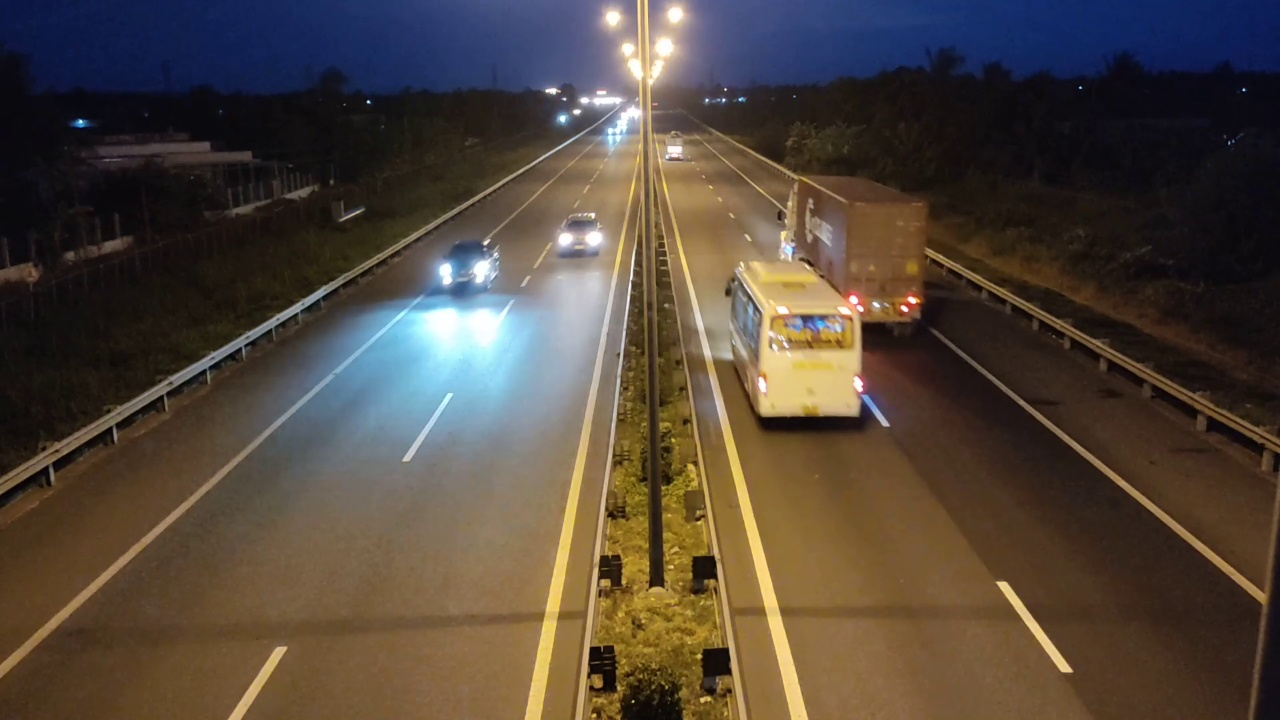bus: (725, 257, 867, 429)
car: (437, 239, 501, 297), (555, 211, 604, 257)
truck: (779, 172, 929, 340)
